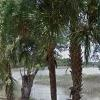Palm tree: (26, 8, 91, 96)
